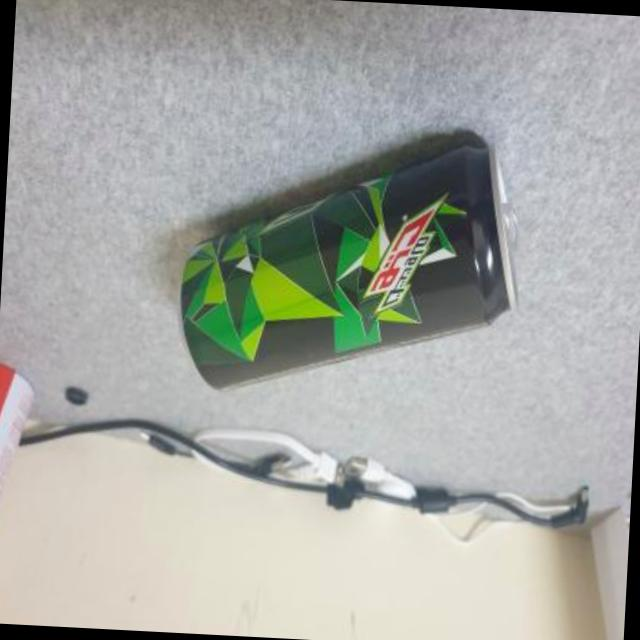metal: (179, 150, 512, 392)
